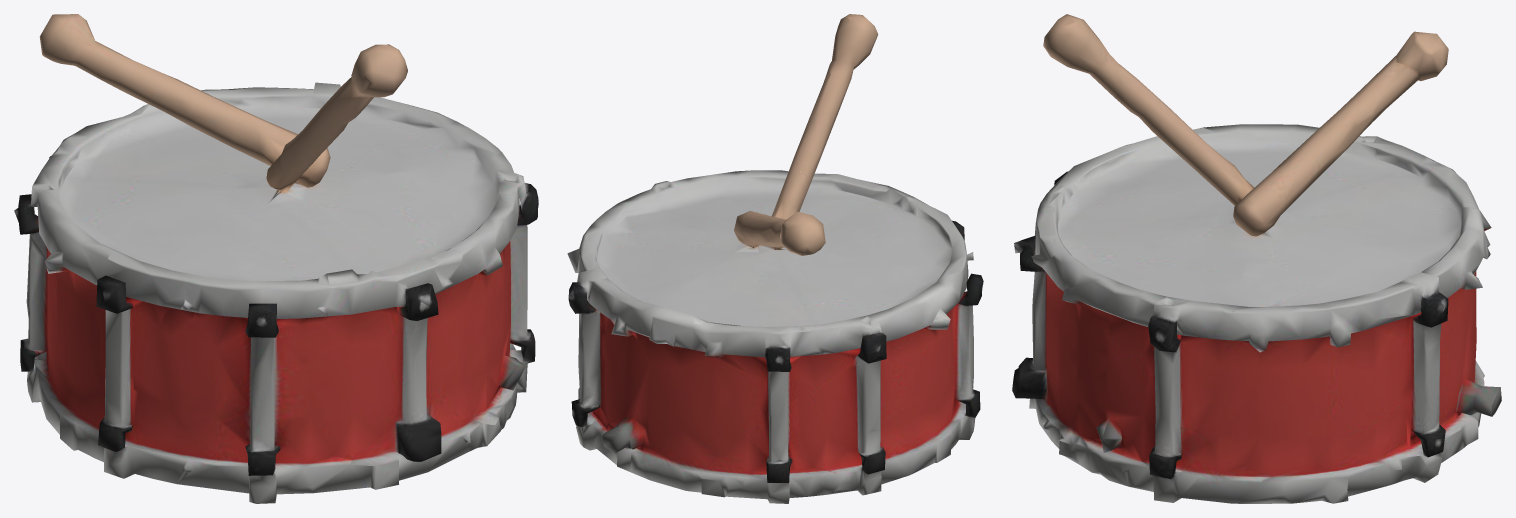
The model's file is drum.glb.
The picture shows the model from 3 angles, left to right: view 1: azimuth 30°, elevation 25°; view 2: azimuth 150°, elevation 25°; view 3: azimuth 270°, elevation 25°; orthographic projection. The views are drawn at different scales.
Visible parts, largest first — view 1: tripo_node_1e56e4f4-9552-4976-b61e-f98f88a61d6e; view 2: tripo_node_1e56e4f4-9552-4976-b61e-f98f88a61d6e; view 3: tripo_node_1e56e4f4-9552-4976-b61e-f98f88a61d6e.
Part boxes in pixels (bbox=[...]): tripo_node_1e56e4f4-9552-4976-b61e-f98f88a61d6e: bbox=[14, 14, 538, 503]; tripo_node_1e56e4f4-9552-4976-b61e-f98f88a61d6e: bbox=[567, 14, 983, 503]; tripo_node_1e56e4f4-9552-4976-b61e-f98f88a61d6e: bbox=[1012, 14, 1501, 503].
Bounding box in the file's own units: 0.9774 × 0.8947 × 1.
Materials: 1 (1 with a texture image).
